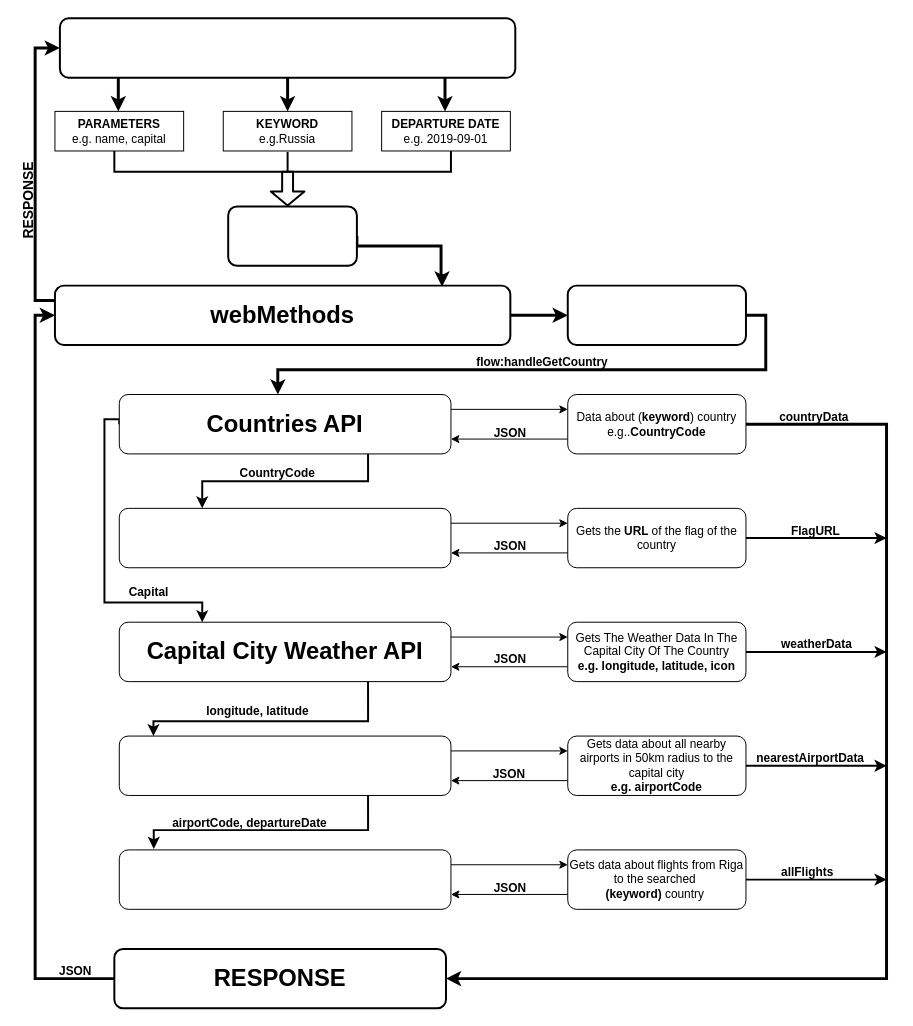
The diagram is 913 pixels wide and 1026 high, and some of its shapes have lost their labels. Each missing label, with the box of its shape:
Airports API: (118, 735, 451, 795)
Country Flag API: (118, 507, 451, 568)
Flights API: (118, 849, 451, 909)
GET: (227, 205, 357, 266)
method: GET: (566, 284, 746, 346)
USER /countries: (58, 17, 516, 78)
